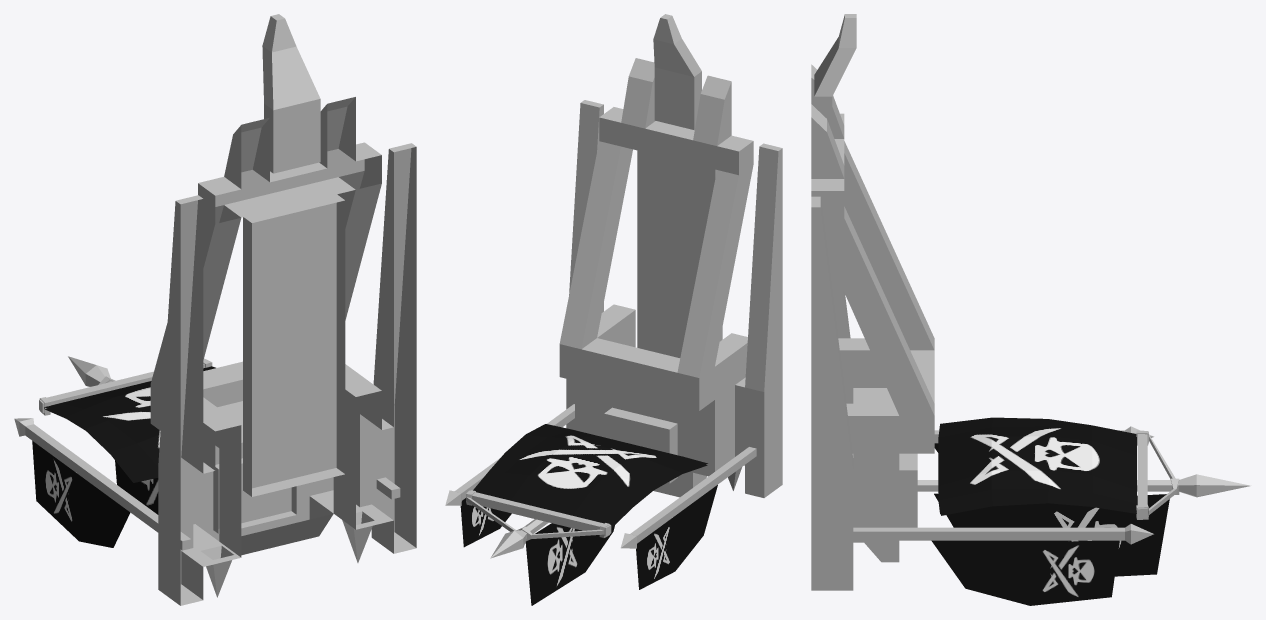
Rendered from pirate_cannon_my_ship_7.fbx.
The picture shows the model from 3 angles, left to right: view 1: azimuth 30°, elevation 25°; view 2: azimuth 150°, elevation 25°; view 3: azimuth 270°, elevation 25°; orthographic projection. The views are drawn at different scales.
Parts seen in each view (by area): view 1: Cube.281; view 2: Cube.281; view 3: Cube.281.
Boxes of the visible parts, x1,y1,x2,y2 form: Cube.281: (14, 14, 416, 605); Cube.281: (445, 14, 782, 605); Cube.281: (811, 14, 1251, 605).
Bounding box in the file's own units: 255 × 610 × 431.
